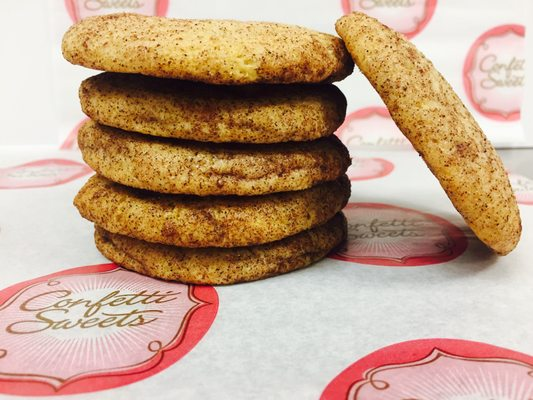pasta: (335, 11, 523, 257)
pizza: (339, 0, 439, 40)
soup: (68, 11, 354, 288)
